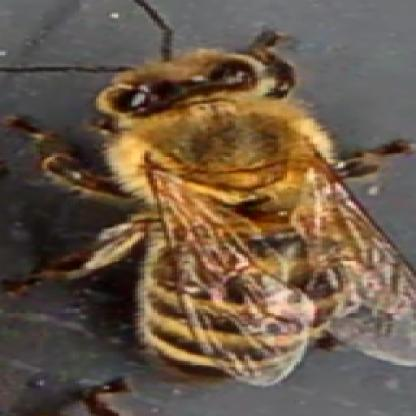bee: (79, 35, 360, 388)
